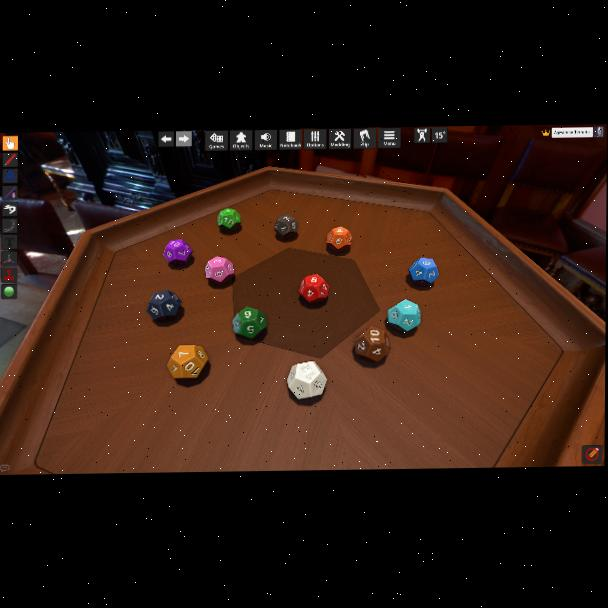d12: (167, 344, 208, 380), (287, 361, 323, 400), (353, 326, 388, 363), (231, 307, 266, 340), (147, 291, 182, 322), (388, 300, 419, 332), (408, 257, 438, 286), (205, 256, 233, 285), (163, 239, 193, 266), (298, 275, 325, 304), (330, 226, 353, 252), (275, 215, 298, 240), (217, 207, 240, 230)
